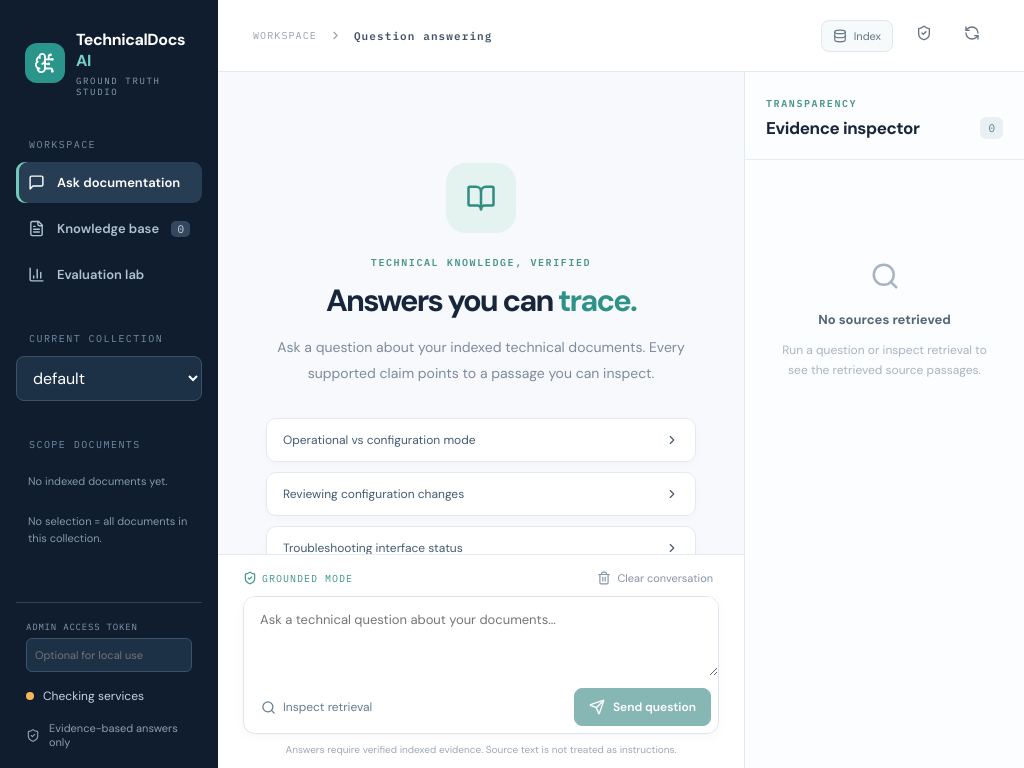
Test: API-connected interaction contract › shows a provider error without a cited answer
Type "Which command is used?" into the text box labelled "question".
click(481, 636); type("Which command is used?")  # box x1=244 y1=597 x2=718 y2=676
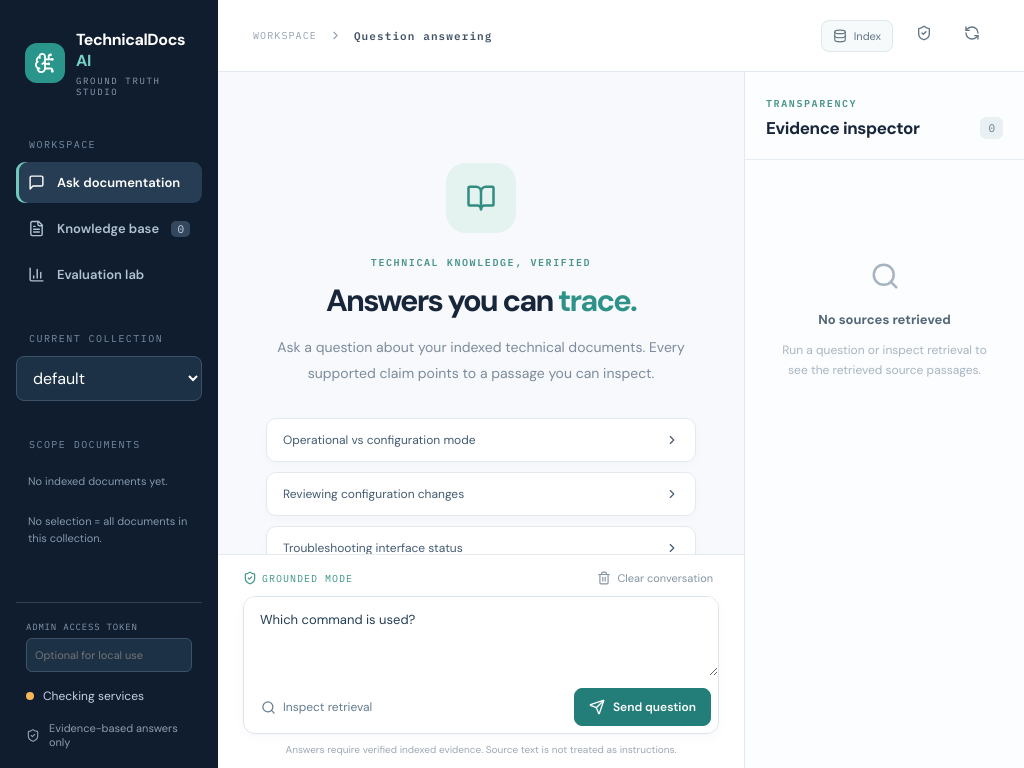
Click the button "Send question".
click(642, 707)  # box x1=574 y1=688 x2=711 y2=726
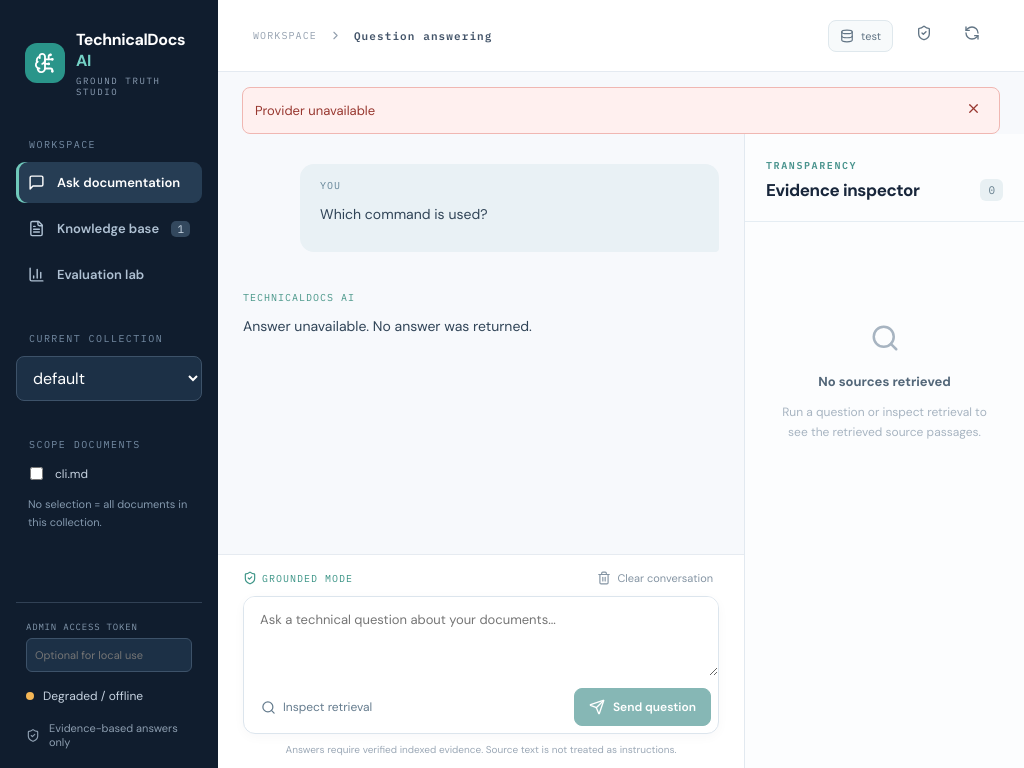
Check: the message reads "Provider unavailable", box x1=255 y1=102 x2=375 y2=119
